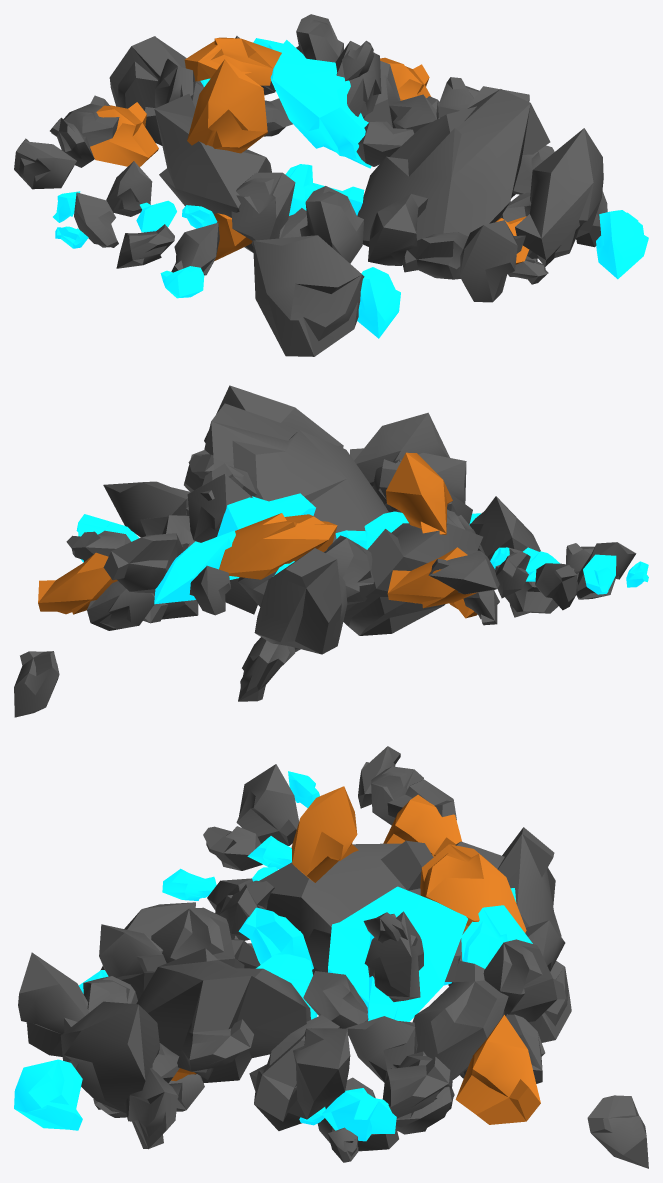
File: p_mesh_orecrusher_stonedebri_vacumed_blendshape_pose0.fbx
The picture shows the model from 3 angles, top to bottom: view 1: azimuth 30°, elevation 25°; view 2: azimuth 150°, elevation 25°; view 3: azimuth 270°, elevation 25°; orthographic projection. The views are drawn at different scales.
Visible parts, largest first — view 1: rocks_pose0; view 2: rocks_pose0; view 3: rocks_pose0.
Part boxes in pixels (<box>): rocks_pose0: <box>14,14,648,356</box>; rocks_pose0: <box>14,385,648,717</box>; rocks_pose0: <box>14,746,648,1168</box>.
Size of the model in its own units: 4.39 by 1.79 by 4.17.
